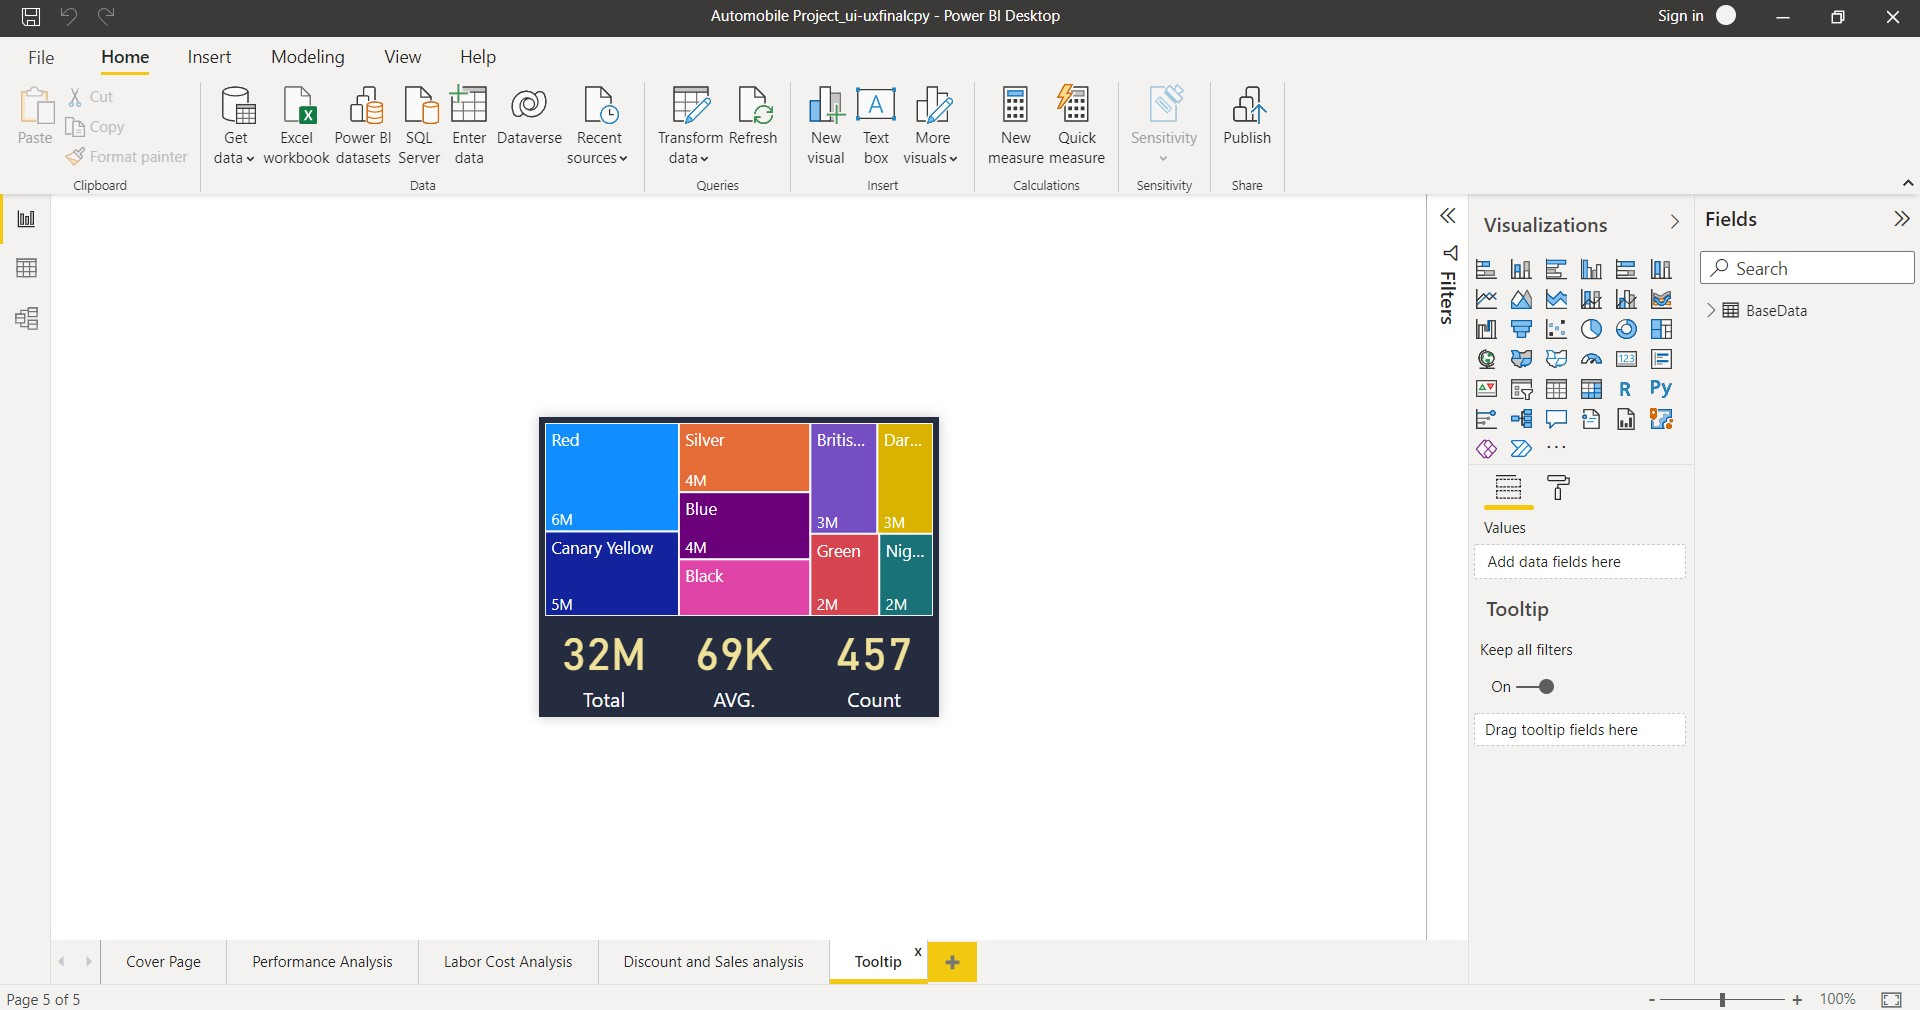

The dashboard page shown, as its layout file describes it:
{"tool":"powerbi","page":{"name":"Tooltip","canvas":[320,240],"ordinal":4},"visuals":[{"type":"treemap","fields":{"Group":["BaseData.Color"],"Values":["Sum(BaseData.SalePrice)"]},"box":[0,0,320,164],"z":0},{"type":"card","fields":{"Values":["Sum(BaseData.SalePrice)"]},"box":[0,154,104,86],"z":1000},{"type":"card","fields":{"Values":["Avg(BaseData.SalePrice)"]},"box":[104,154,104,86],"z":2000},{"type":"card","fields":{"Values":["CountNonNull(BaseData.SalePrice)"]},"box":[216,154,104,86],"z":3000}]}

Visuals, with their boxes on the page's 320x240 design canvas (x1, y1, x2, y2). These are canvas units, not pixel positions in the 1920x1010 screenshot, which may show the page scaled, cropped or inside an application window:
treemap - BaseData.Color x Sum(BaseData.SalePrice): 0 0 320 164
card - Sum(BaseData.SalePrice): 0 154 104 240
card - Avg(BaseData.SalePrice): 104 154 208 240
card - CountNonNull(BaseData.SalePrice): 216 154 320 240
